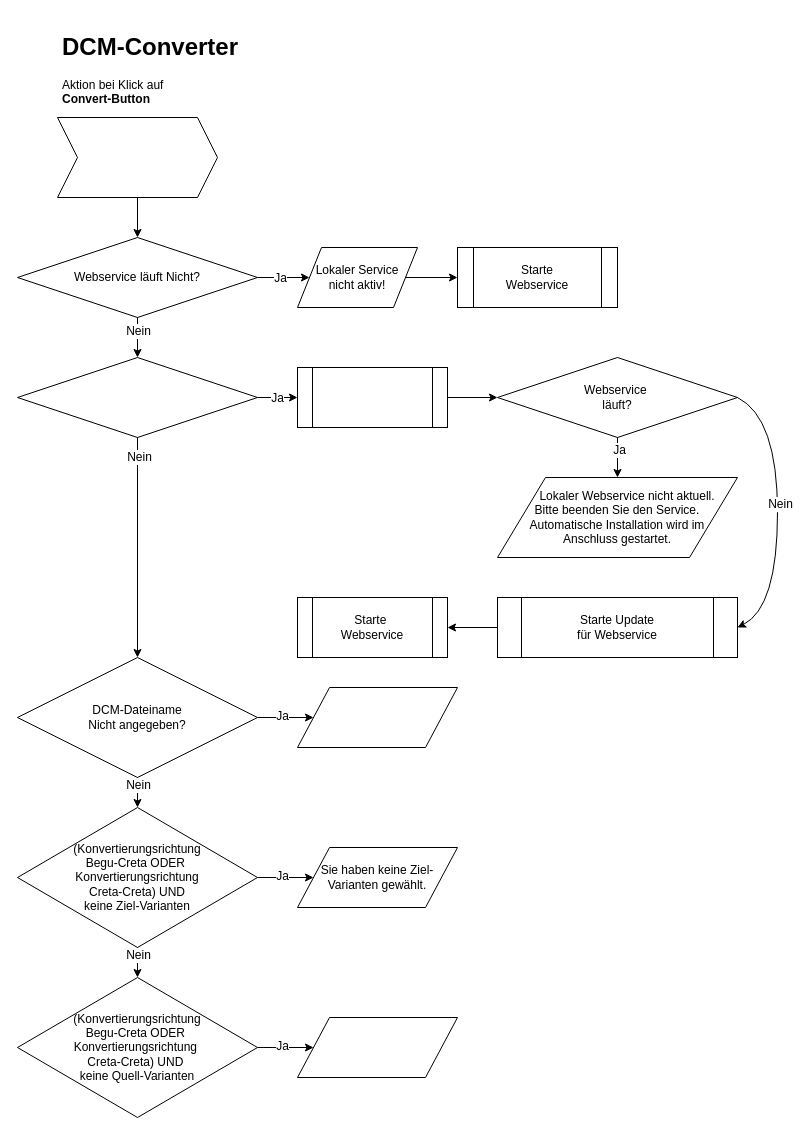
This 810x1135 diagram has some shape labels left out. The shapes that lost their labels are listed below. From the top down, each one's centre as x and y in pixels, then its label:
At point (137, 157): "Klick auf Convert-Button".
At point (137, 397): "Prüfung Version Webservice Nicht OK?".
At point (372, 397): "Beende Webservice".
At point (377, 717): "Sie haben keine DCM-Datei gewählt.".
At point (377, 1047): "Sie haben keine Quell-Varianten gewählt.".
